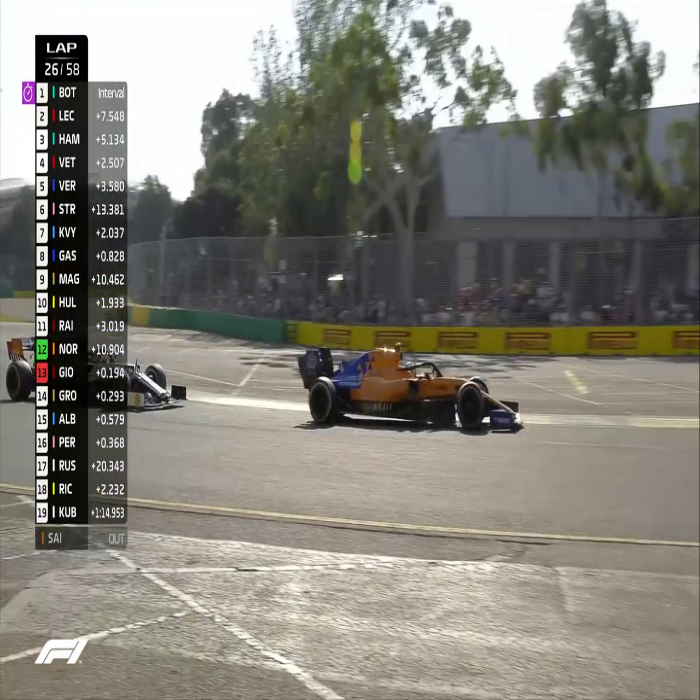f1_car: (301, 338, 535, 444)
